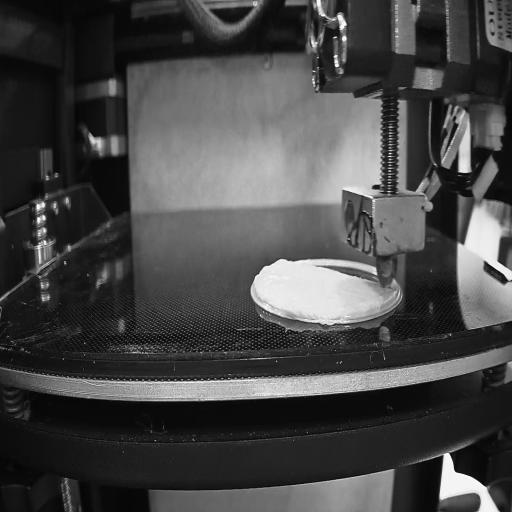over_extrusion: (252, 252, 290, 302)
